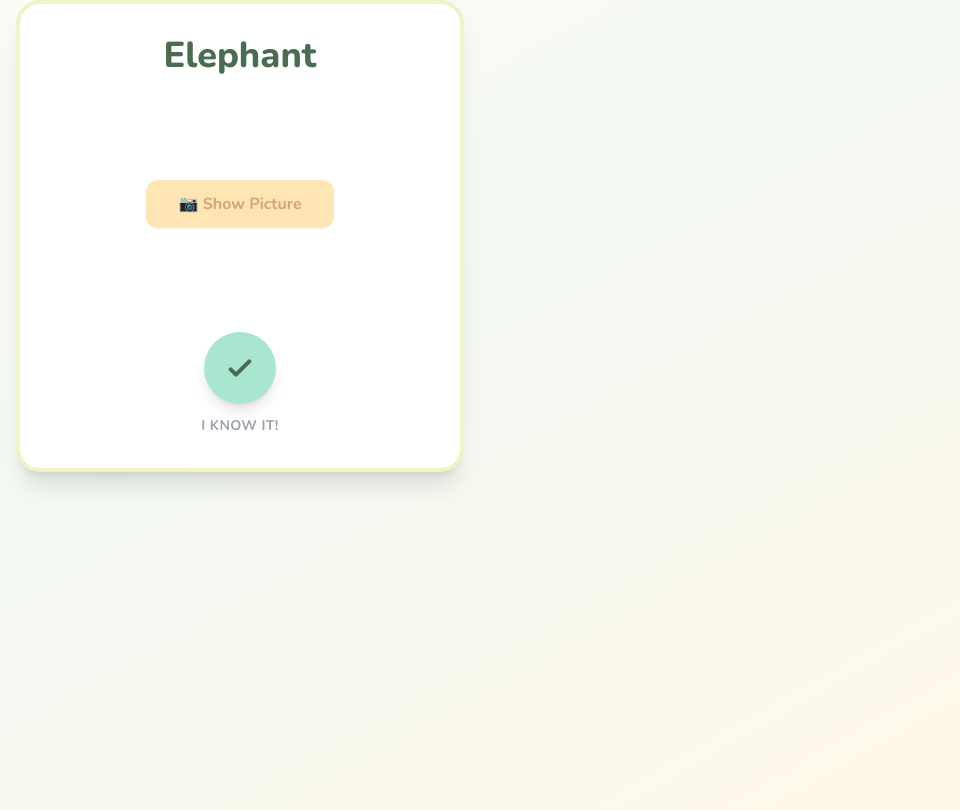
Test: Flashcard Component › reveals image when "Show Picture" is clicked
Click the button "📷 Show Picture" at (240, 204), box x1=146 y1=180 x2=334 y2=228
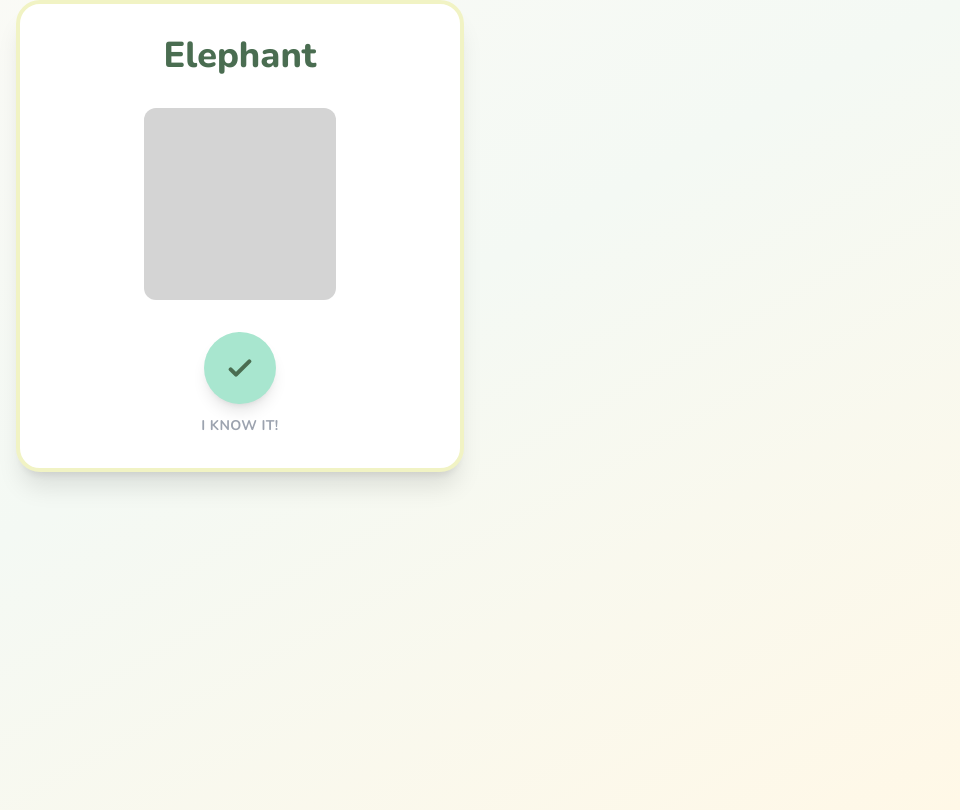
Check: the button "Show Picture" is gone
